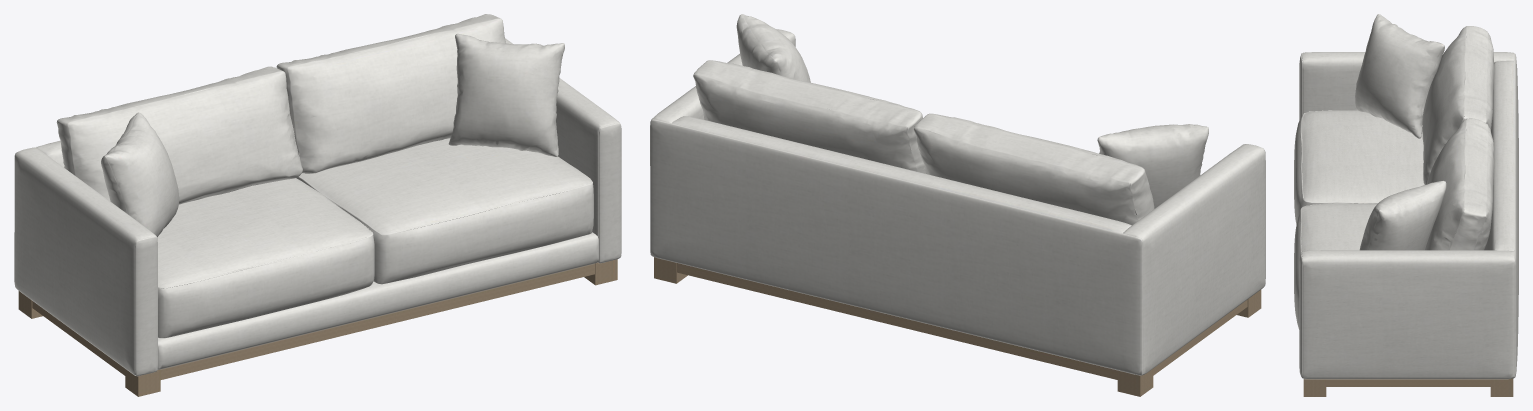
3 renders of one model, left to right at view 1: azimuth 30°, elevation 25°; view 2: azimuth 150°, elevation 25°; view 3: azimuth 270°, elevation 25°, orthographic. The views are drawn at different scales.
Parts seen in each view (by area): view 1: fabric, wood; view 2: fabric, wood; view 3: fabric, wood.
Part boxes in pixels (x1,y1,x2,y2): fabric: (14, 14, 621, 376); wood: (18, 259, 617, 396); fabric: (650, 14, 1265, 375); wood: (654, 257, 1261, 396); fabric: (1294, 14, 1518, 379); wood: (1303, 378, 1513, 396).
Size of the model in its own units: 1.96 by 0.7881 by 0.8809.
1 material, 1 textured.
